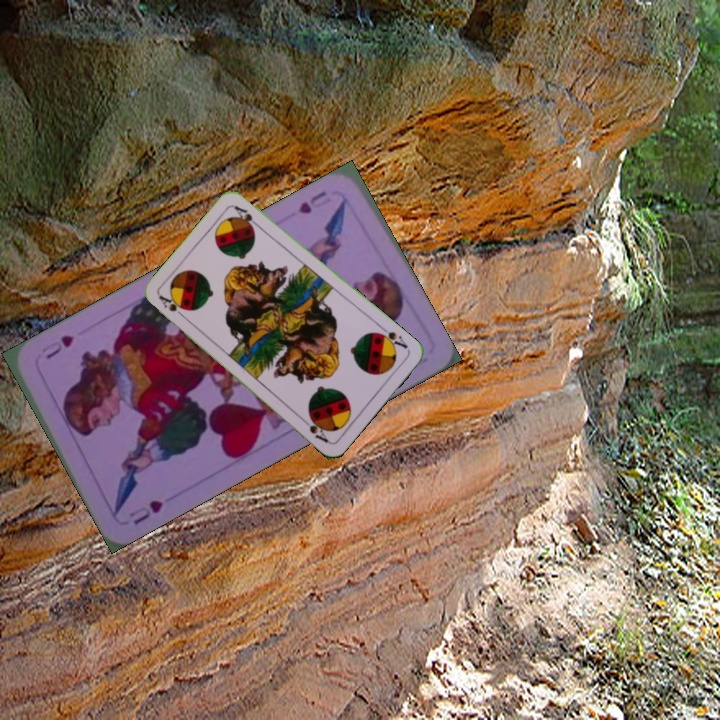HU: (125, 495, 166, 527), (294, 186, 336, 217)
SA: (372, 322, 410, 351), (155, 291, 189, 322)
